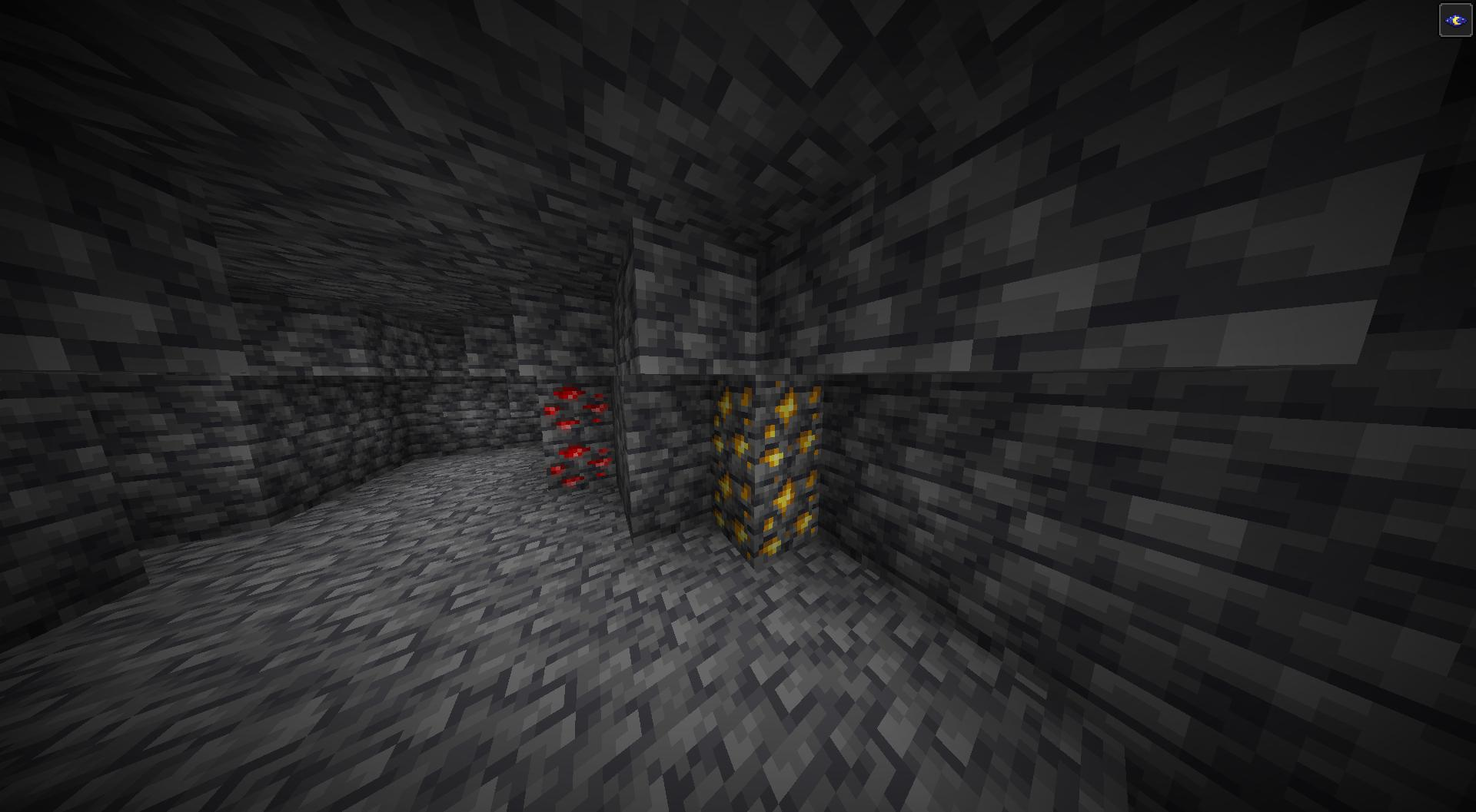gold ore: (758, 375, 829, 464), (758, 478, 824, 551), (713, 374, 760, 462), (716, 469, 757, 542)
redstone ore: (541, 379, 610, 430), (545, 439, 614, 484)
